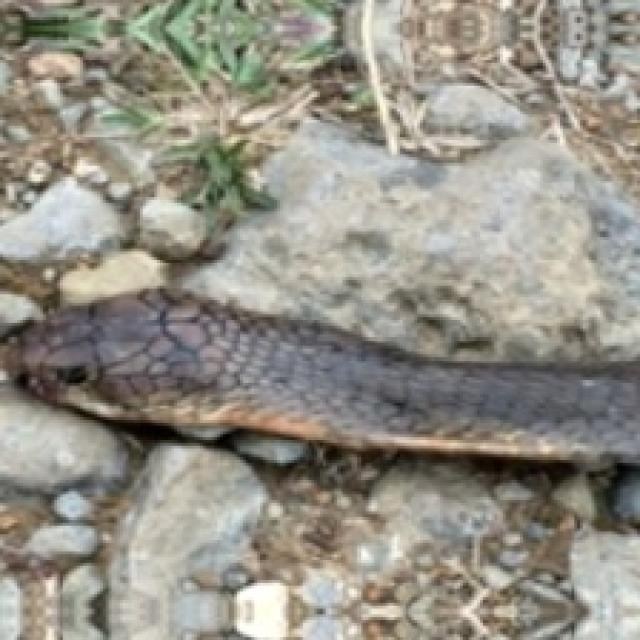king cobra: (20, 289, 637, 463)
